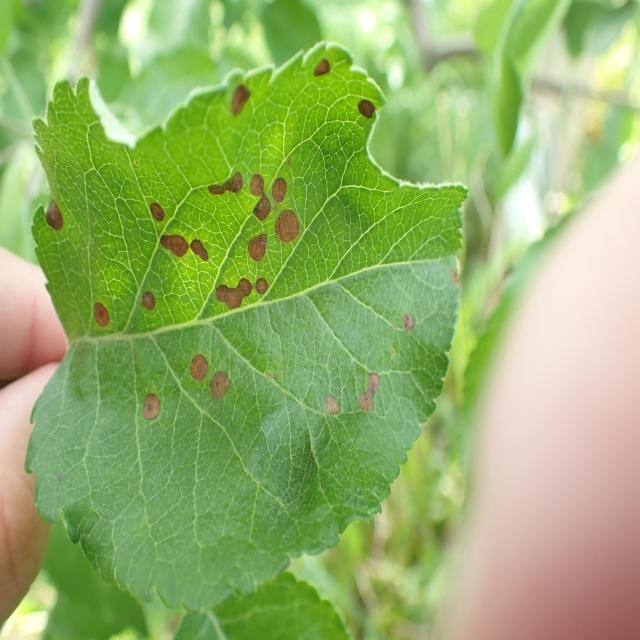Black Rot: (35, 178, 80, 250), (221, 61, 262, 138), (208, 262, 256, 316), (354, 364, 386, 426), (249, 162, 273, 236), (135, 272, 161, 338), (159, 228, 196, 274), (200, 166, 241, 207), (312, 380, 340, 435), (90, 283, 112, 352), (309, 38, 336, 94), (275, 210, 307, 256), (187, 339, 213, 395), (393, 303, 426, 347), (141, 181, 173, 226), (137, 372, 161, 432), (184, 232, 221, 270), (209, 366, 232, 420), (270, 167, 293, 219), (354, 87, 374, 139), (254, 266, 282, 303), (247, 225, 267, 269)
